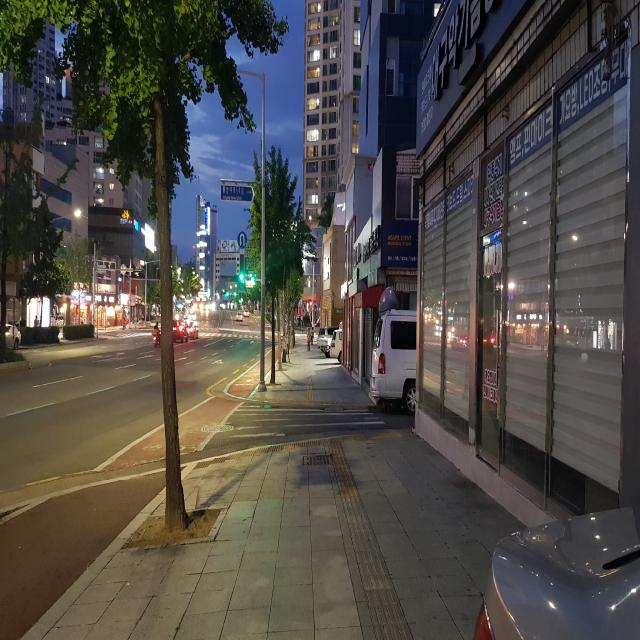횡단보도: (211, 404, 387, 439)
